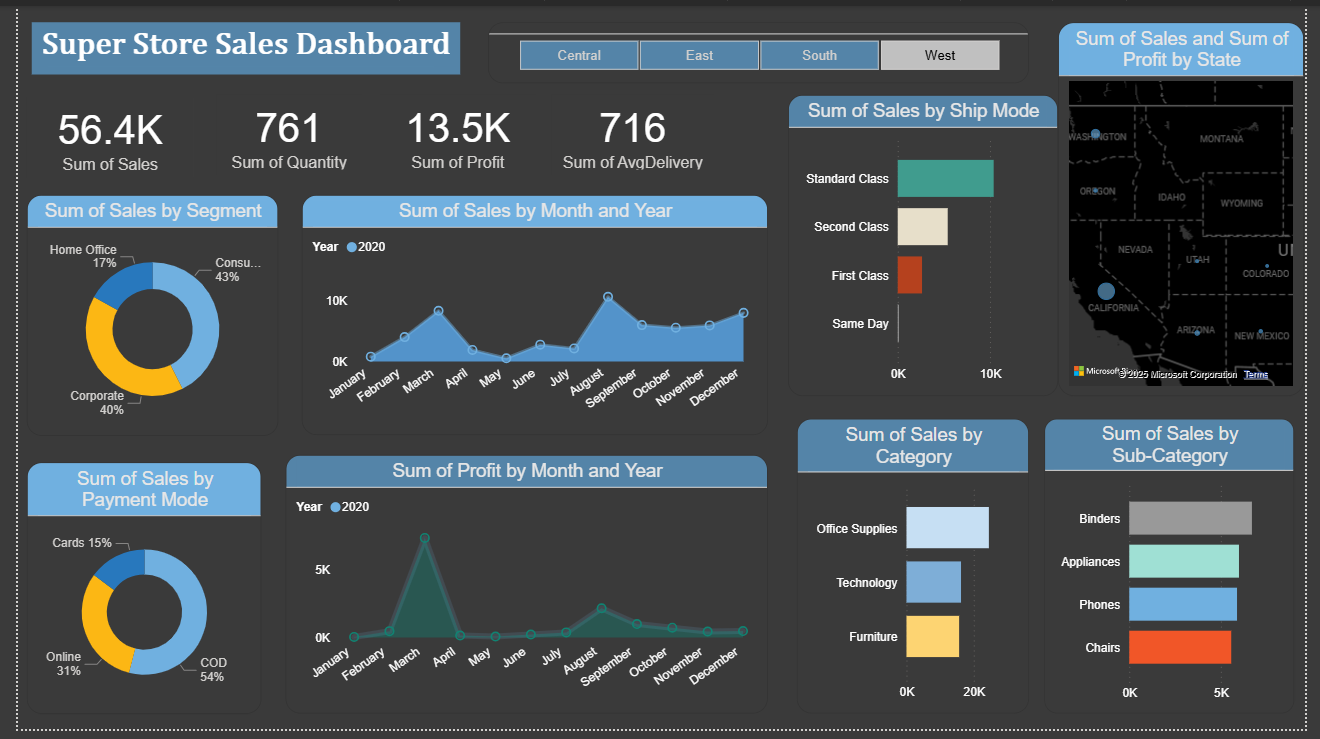

The page's visual inventory and layout, read from the dashboard file:
{"tool":"powerbi","page":{"name":"Page 1","canvas":[1280,720],"ordinal":0},"visuals":[{"type":"clusteredBarChart","fields":{"Category":["SuperStore_Sales_Dataset.Category"],"Y":["Sum(SuperStore_Sales_Dataset.Sales)"]},"box":[775,410.5,231.4,293.6],"z":0},{"type":"clusteredBarChart","fields":{"Category":["SuperStore_Sales_Dataset.Ship Mode"],"Y":["Sum(SuperStore_Sales_Dataset.Sales)"]},"box":[766.3,88.3,268.7,299.8],"z":1000},{"type":"clusteredBarChart","fields":{"Category":["SuperStore_Sales_Dataset.Sub-Category"],"Y":["Sum(SuperStore_Sales_Dataset.Sales)"]},"box":[1021.3,410.5,248.8,293.6],"z":2000},{"type":"stackedAreaChart","fields":{"Y":["Sum(SuperStore_Sales_Dataset.Sales)"],"Category":["SuperStore_Sales_Dataset.Order Date.Variation.Date Hierarchy.Month"],"Series":["SuperStore_Sales_Dataset.Order Date.Variation.Date Hierarchy.Year"]},"box":[282.4,187.8,464,238.8],"z":3000},{"type":"stackedAreaChart","fields":{"Category":["SuperStore_Sales_Dataset.Order Date.Variation.Date Hierarchy.Month","SuperStore_Sales_Dataset.Order Date.Variation.Date Hierarchy.Day"],"Series":["SuperStore_Sales_Dataset.Order Date.Variation.Date Hierarchy.Year"],"Y":["Sum(SuperStore_Sales_Dataset.Profit)"]},"box":[266.2,446.6,480.2,257.5],"z":4000},{"type":"donutChart","fields":{"Category":["SuperStore_Sales_Dataset.Segment"],"Y":["Sum(SuperStore_Sales_Dataset.Sales)"]},"box":[8.7,187.8,250,240.1],"z":5000},{"type":"donutChart","fields":{"Category":["SuperStore_Sales_Dataset.Payment Mode"],"Y":["Sum(SuperStore_Sales_Dataset.Sales)"]},"box":[8.7,454,233.9,250],"z":6000},{"type":"slicer","fields":{"Values":["SuperStore_Sales_Dataset.Region"]},"box":[467.7,16.2,538.6,61],"z":7000},{"type":"map","fields":{"Category":["SuperStore_Sales_Dataset.State"],"Size":["Sum(SuperStore_Sales_Dataset.Sales)"]},"box":[1035,16.2,245.1,371.9],"z":8000},{"type":"textbox","box":[13.7,16.2,426.7,52.2],"z":9000},{"type":"shape","box":[29.9,53.5,384.4,14.9],"z":10000},{"type":"card","title":"Sales","fields":{"Values":["Sum(SuperStore_Sales_Dataset.Sales)"]},"box":[8.7,90.8,166.7,79.6],"z":11000},{"type":"card","title":"Sales","fields":{"Values":["Sum(SuperStore_Sales_Dataset.Quantity)"]},"box":[197.8,88.3,144.3,79.6],"z":12000},{"type":"card","title":"Sales","fields":{"Values":["Sum(SuperStore_Sales_Dataset.Profit)"]},"box":[360.7,88.3,154.3,79.6],"z":13000},{"type":"card","title":"Sales","fields":{"Values":["Sum(SuperStore_Sales_Dataset.AvgDelivery)"]},"box":[531.2,88.3,161.7,79.6],"z":14000}]}

Visuals, with their boxes in screenshot pixels (x1, y1, x2, y2), scaled from the page's 1280x720 canvas onto the 1320x739 screenshot:
clusteredBarChart - SuperStore_Sales_Dataset.Category x Sum(SuperStore_Sales_Dataset.Sales): {"left": 799, "top": 421, "right": 1038, "bottom": 723}
clusteredBarChart - SuperStore_Sales_Dataset.Ship Mode x Sum(SuperStore_Sales_Dataset.Sales): {"left": 790, "top": 91, "right": 1067, "bottom": 398}
clusteredBarChart - SuperStore_Sales_Dataset.Sub-Category x Sum(SuperStore_Sales_Dataset.Sales): {"left": 1053, "top": 421, "right": 1310, "bottom": 723}
stackedAreaChart - Sum(SuperStore_Sales_Dataset.Sales) x SuperStore_Sales_Dataset.Order Date.Variation.Date Hierarchy.Month: {"left": 291, "top": 193, "right": 770, "bottom": 438}
stackedAreaChart - SuperStore_Sales_Dataset.Order Date.Variation.Date Hierarchy.Month x SuperStore_Sales_Dataset.Order Date.Variation.Date Hierarchy.Day: {"left": 275, "top": 458, "right": 770, "bottom": 723}
donutChart - SuperStore_Sales_Dataset.Segment x Sum(SuperStore_Sales_Dataset.Sales): {"left": 9, "top": 193, "right": 267, "bottom": 439}
donutChart - SuperStore_Sales_Dataset.Payment Mode x Sum(SuperStore_Sales_Dataset.Sales): {"left": 9, "top": 466, "right": 250, "bottom": 723}
slicer - SuperStore_Sales_Dataset.Region: {"left": 482, "top": 17, "right": 1038, "bottom": 79}
map - SuperStore_Sales_Dataset.State x Sum(SuperStore_Sales_Dataset.Sales): {"left": 1067, "top": 17, "right": 1319, "bottom": 398}
textbox: {"left": 14, "top": 17, "right": 454, "bottom": 70}
shape: {"left": 31, "top": 55, "right": 427, "bottom": 70}
"Sales" card: {"left": 9, "top": 93, "right": 181, "bottom": 175}
"Sales" card: {"left": 204, "top": 91, "right": 353, "bottom": 172}
"Sales" card: {"left": 372, "top": 91, "right": 531, "bottom": 172}
"Sales" card: {"left": 548, "top": 91, "right": 715, "bottom": 172}
